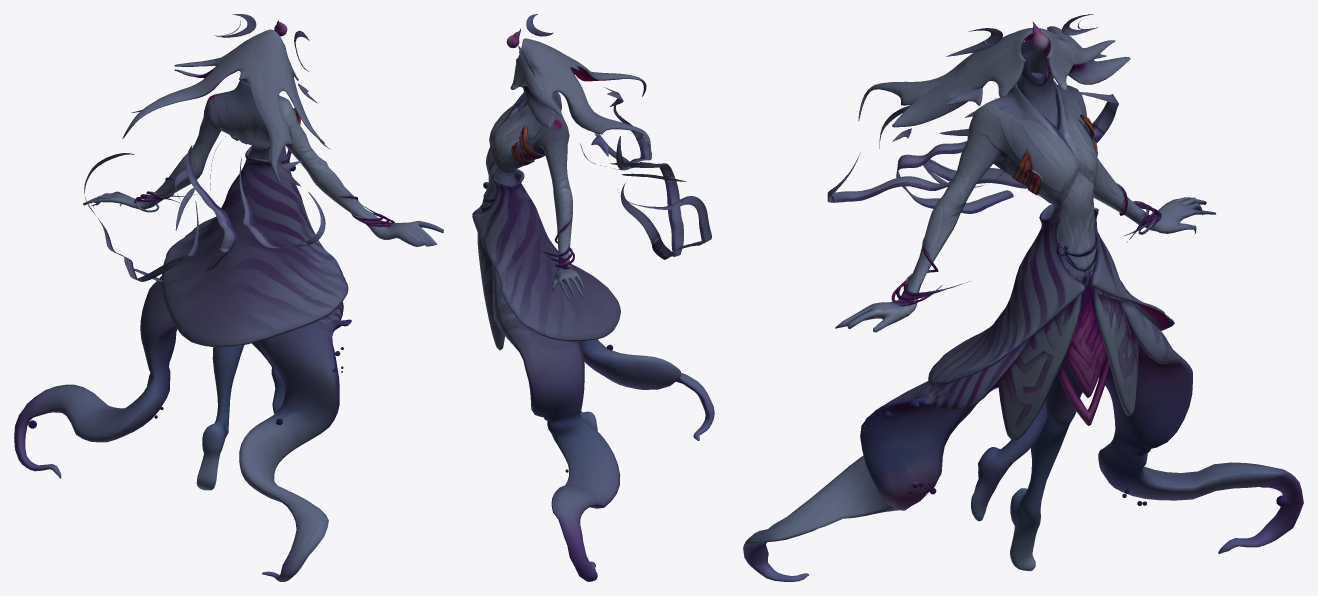
File: high_priestess.glb
3 renders of one model, left to right at view 1: azimuth 30°, elevation 25°; view 2: azimuth 150°, elevation 25°; view 3: azimuth 270°, elevation 25°, orthographic. The views are drawn at different scales.
Visible parts, largest first — view 1: tripo_node_aa7bef25-53cb-4c0d-9e36-a4fd4c107ac2; view 2: tripo_node_aa7bef25-53cb-4c0d-9e36-a4fd4c107ac2; view 3: tripo_node_aa7bef25-53cb-4c0d-9e36-a4fd4c107ac2.
Boxes of the visible parts, bbox=[...] form: tripo_node_aa7bef25-53cb-4c0d-9e36-a4fd4c107ac2: bbox=[14, 14, 443, 581]; tripo_node_aa7bef25-53cb-4c0d-9e36-a4fd4c107ac2: bbox=[472, 14, 714, 581]; tripo_node_aa7bef25-53cb-4c0d-9e36-a4fd4c107ac2: bbox=[743, 14, 1303, 581].
Size of the model in its own units: 0.5934 by 0.9995 by 0.8095.
Materials: 1 (1 with a texture image).
